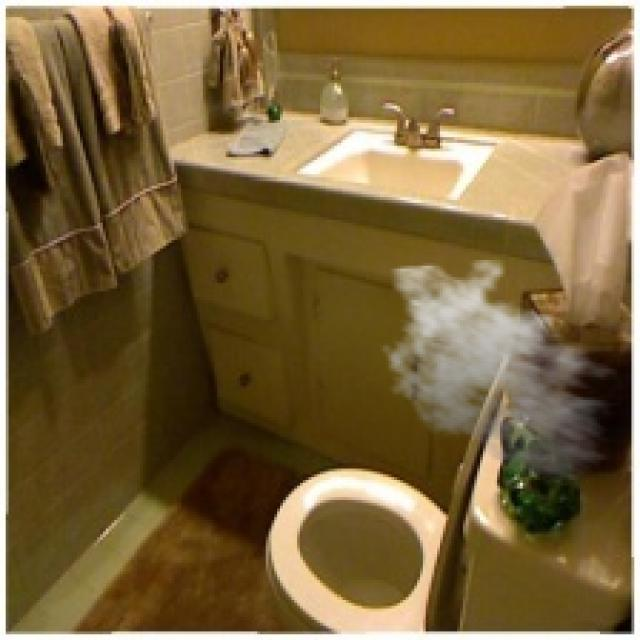smoke: (377, 257, 629, 483)
